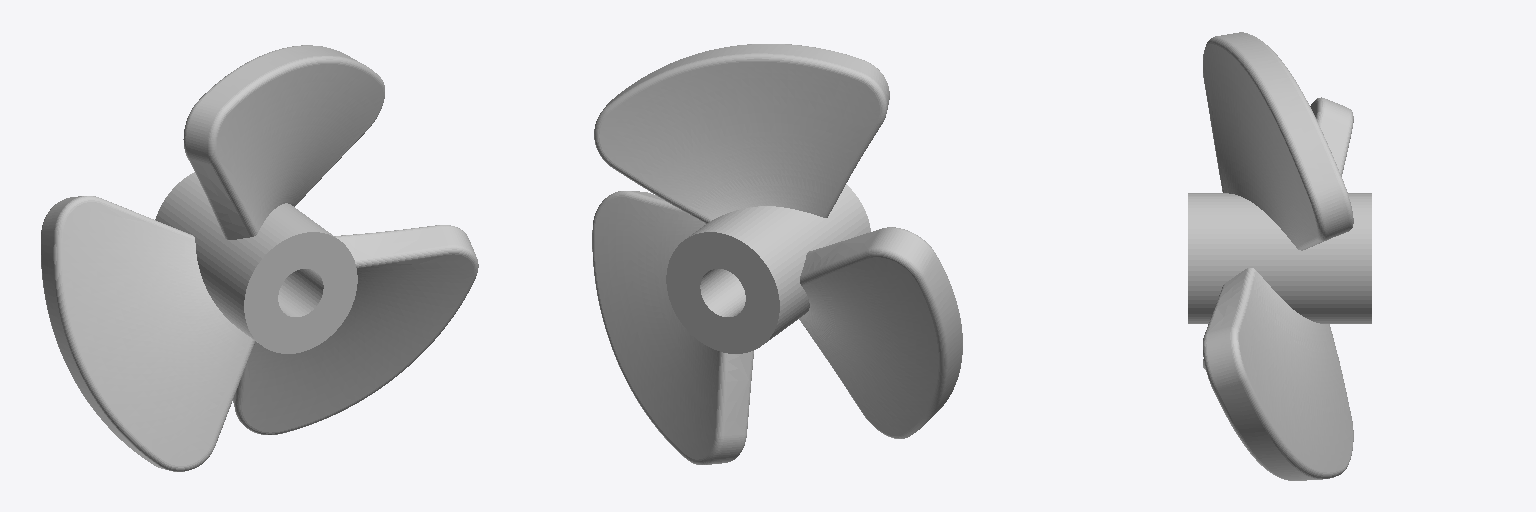
Rendered from Propeller.obj.
The picture shows the model from 3 angles: view 1: azimuth 30°, elevation 25°; view 2: azimuth 150°, elevation 25°; view 3: azimuth 270°, elevation 25°; orthographic projection.
Parts seen in each view (by area): view 1: Propeller_Propeller_v4; view 2: Propeller_Propeller_v4; view 3: Propeller_Propeller_v4.
Part boxes in pixels (bbox=[...]): Propeller_Propeller_v4: bbox=[41, 45, 478, 471]; Propeller_Propeller_v4: bbox=[592, 44, 962, 464]; Propeller_Propeller_v4: bbox=[1188, 32, 1371, 480].
Size of the model in its own units: 0.0341 by 0.0337 by 0.014.